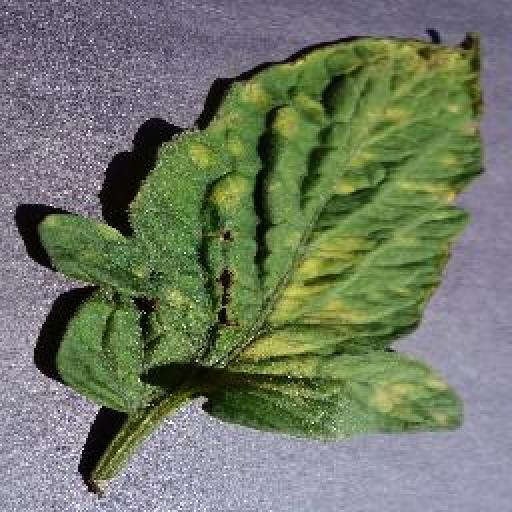disease_tomato: (40, 34, 486, 440)
